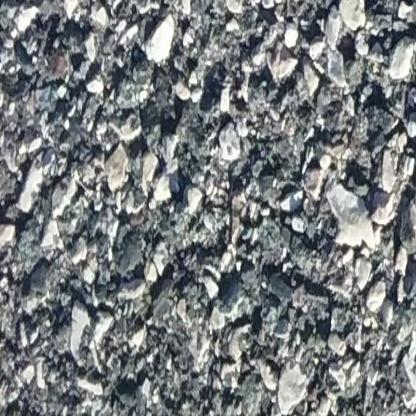Cracks: (239, 0, 416, 68)
